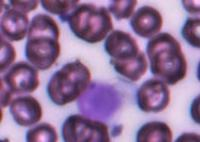L: (76, 78, 124, 122)
